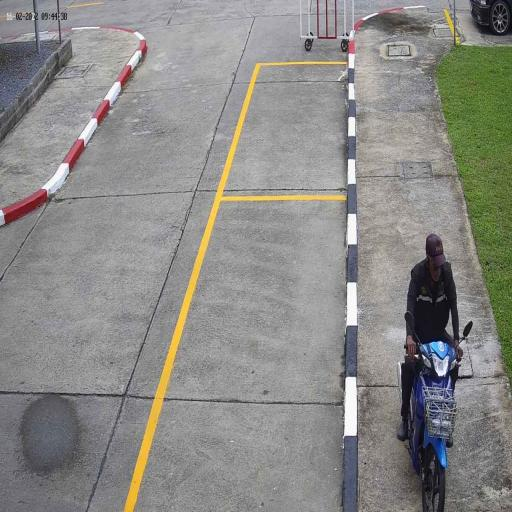motorcycle: (396, 332, 466, 512)
